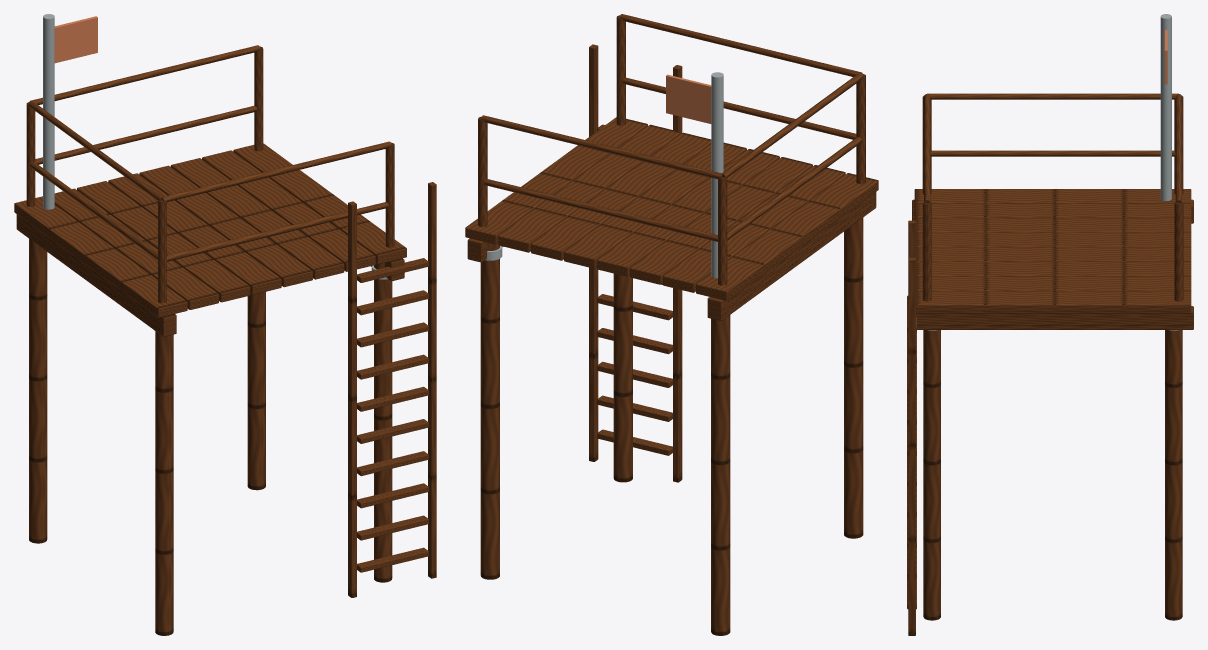
File: flooded-and-coastal-survival-flood-refuge-tower-2fc54a6b__20050.glb
3 views of the same model, side by side, from view 1: azimuth 30°, elevation 25°; view 2: azimuth 150°, elevation 25°; view 3: azimuth 270°, elevation 25° (orthographic). The views are drawn at different scales.
Visible parts, largest first — view 1: flood-refuge-tower; view 2: flood-refuge-tower; view 3: flood-refuge-tower.
Boxes of the visible parts, x1,y1,x2,y2 form: flood-refuge-tower: (14, 14, 436, 635); flood-refuge-tower: (465, 14, 878, 635); flood-refuge-tower: (907, 14, 1193, 635).
Size of the model in its own units: 2.42 by 4.4 by 2.28.
Materials: 3 (1 with a texture image).
